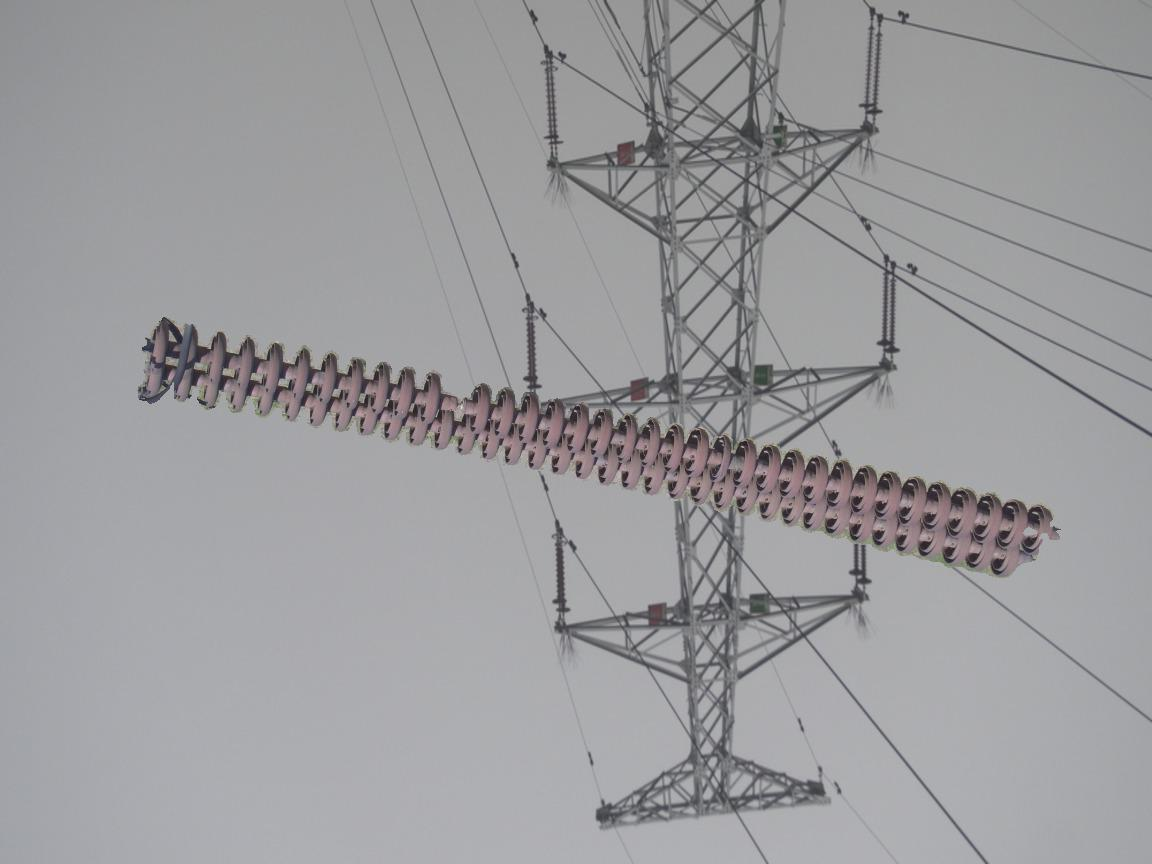insulator: (138, 313, 1062, 583), (861, 22, 889, 114), (879, 263, 904, 354), (539, 53, 563, 145), (547, 537, 573, 612), (519, 313, 545, 383)
insulator_stringdrop: (419, 368, 494, 438)
